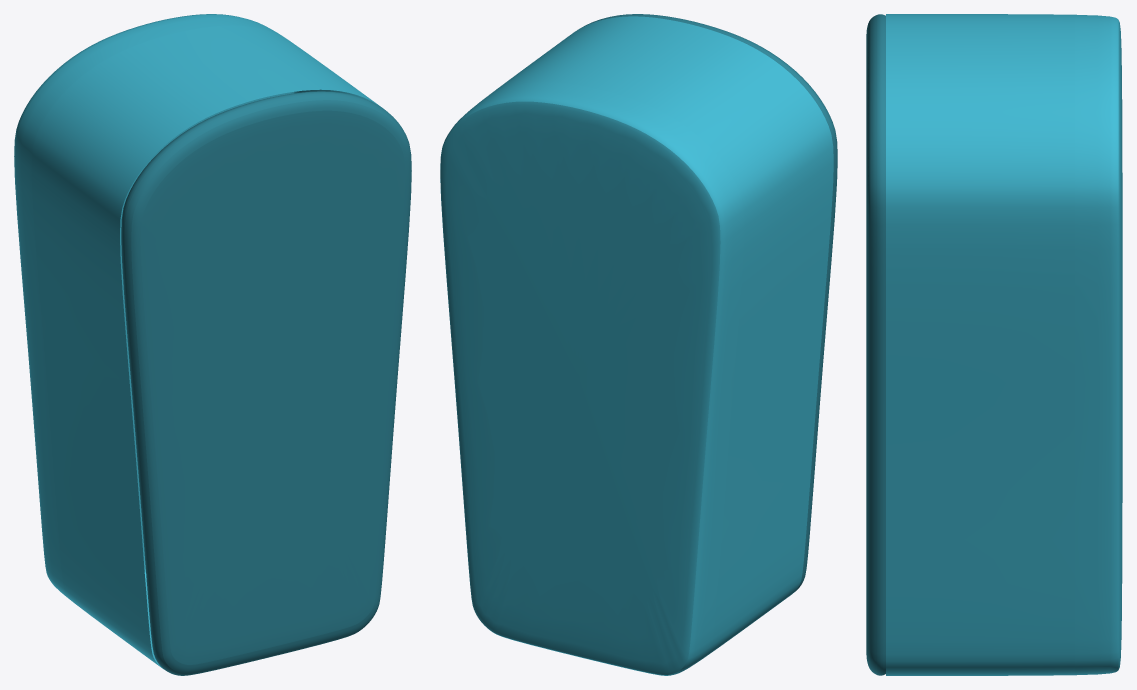
The model's file is Nvera.fbx.
3 views of the same model, side by side, from view 1: azimuth 30°, elevation 25°; view 2: azimuth 150°, elevation 25°; view 3: azimuth 270°, elevation 25° (orthographic). The views are drawn at different scales.
Parts seen in each view (by area): view 1: Mueble3.001, Mueble3; view 2: Mueble3, Mueble3.001; view 3: Mueble3, Mueble3.001.
Boxes of the visible parts, x1,y1,x2,y2 form: Mueble3.001: [121, 91, 411, 675]; Mueble3: [14, 14, 384, 668]; Mueble3: [440, 16, 833, 675]; Mueble3.001: [579, 14, 837, 591]; Mueble3: [886, 14, 1122, 675]; Mueble3.001: [866, 14, 885, 675].
Size of the model in its own units: 217 by 401 by 157.
